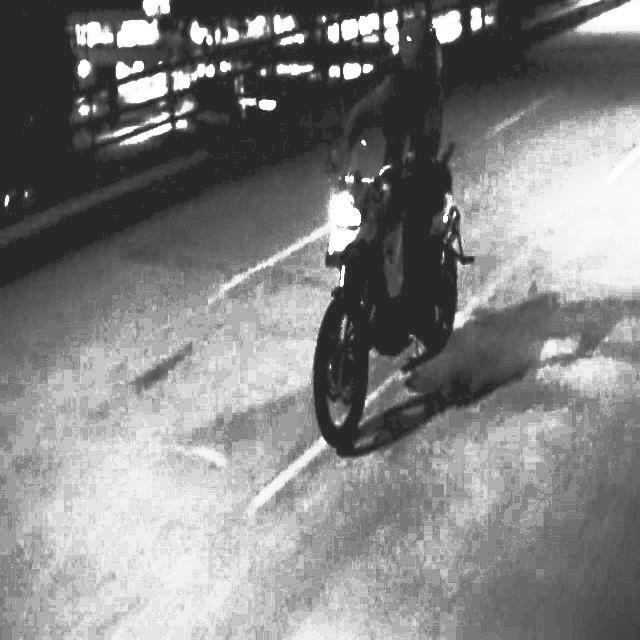Motorcycle: (307, 174, 477, 468)
